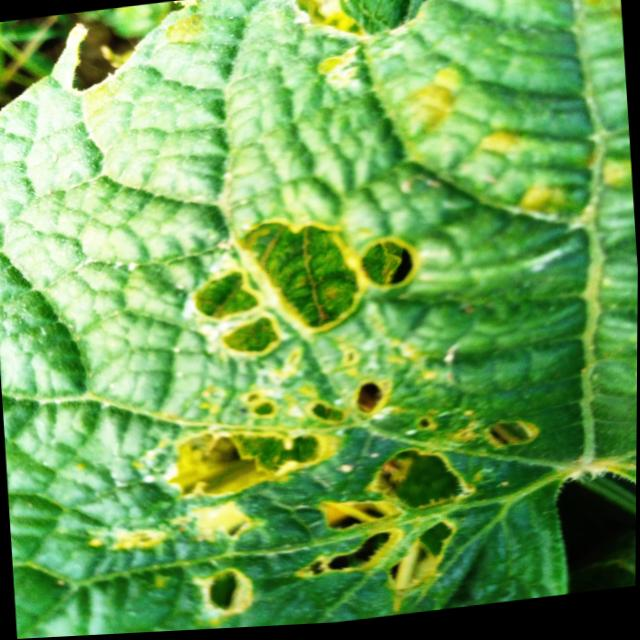Anthracnose: (187, 211, 422, 365), (291, 443, 474, 601), (166, 375, 393, 499), (202, 563, 258, 625), (479, 409, 541, 458)
